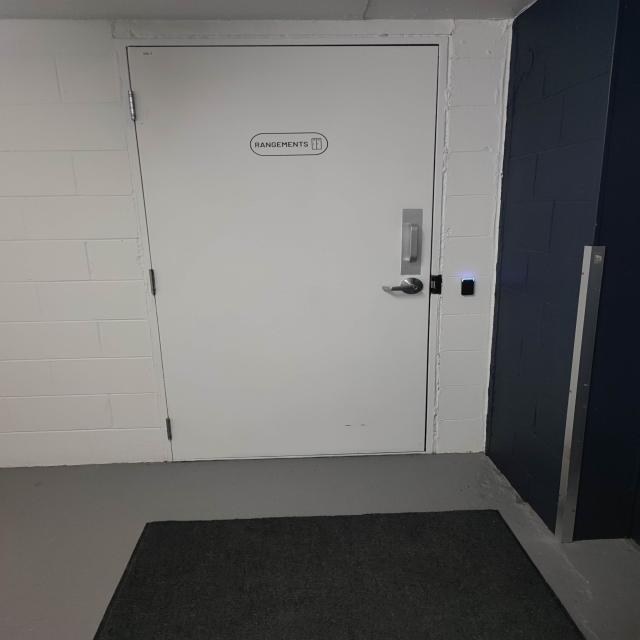door-handle: (382, 278, 423, 294)
